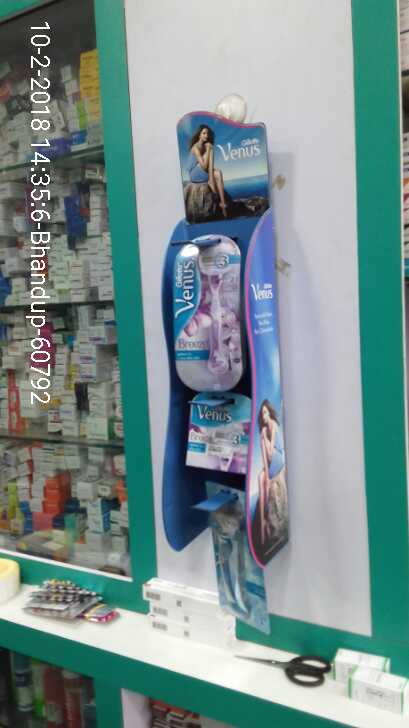venus: (166, 225, 247, 395), (173, 388, 255, 473)
